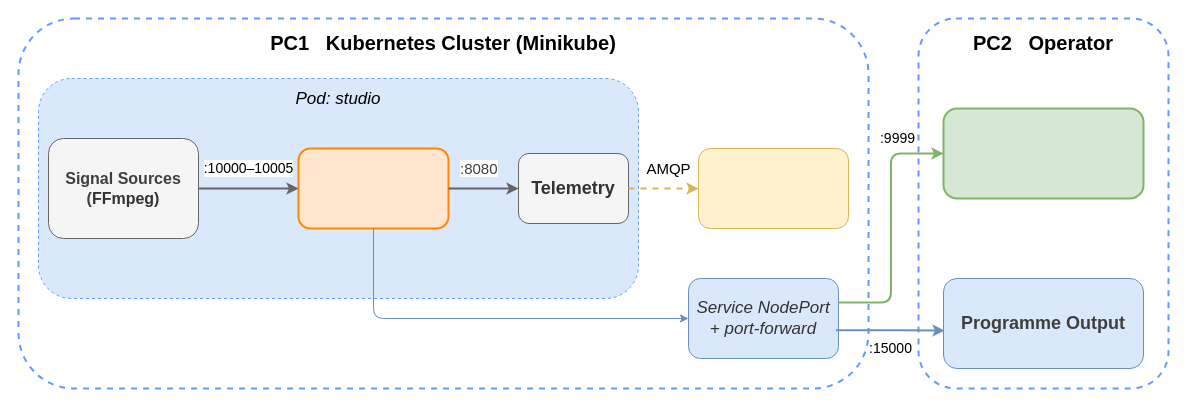
This 1186x406 diagram has some shape labels left out. The box of each missing label's shape, as (x1, y1, x2, y2) in pixels:
Pod: RabbitMQ: (698, 148, 848, 228)
Voctocore: (297, 147, 449, 229)
Voctogui (host = IP_SERVER): (942, 107, 1144, 199)
